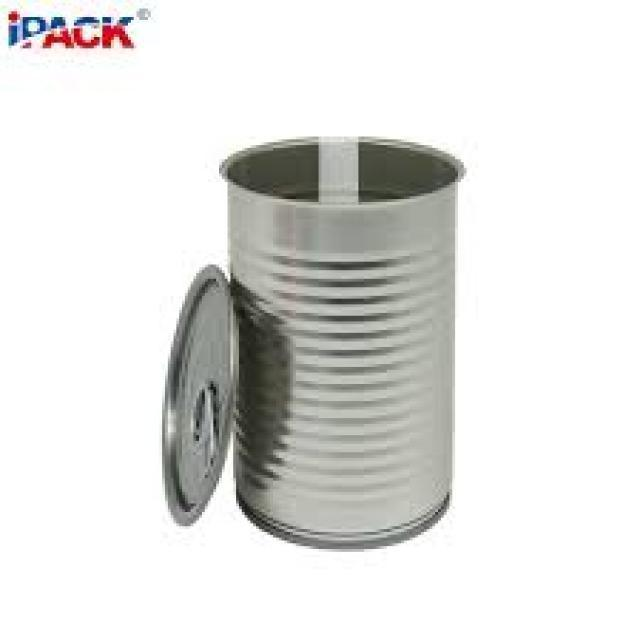metal-can: (219, 132, 468, 554), (158, 258, 243, 529)
